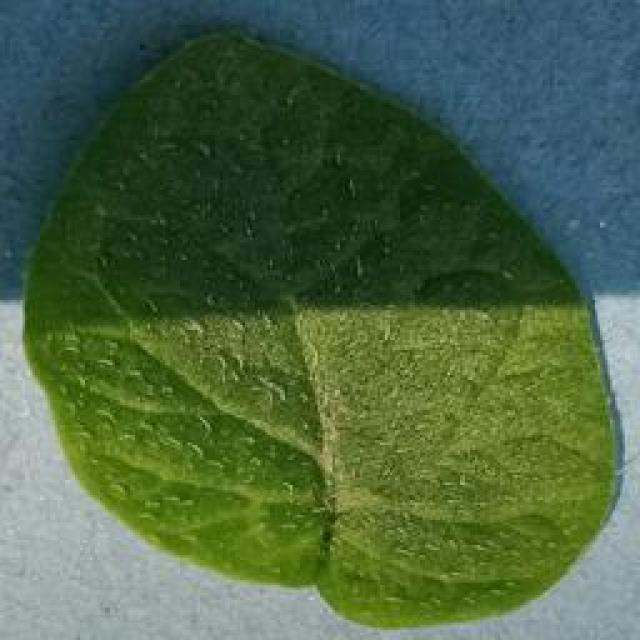Potato_Healthy: (0, 0, 622, 630)
